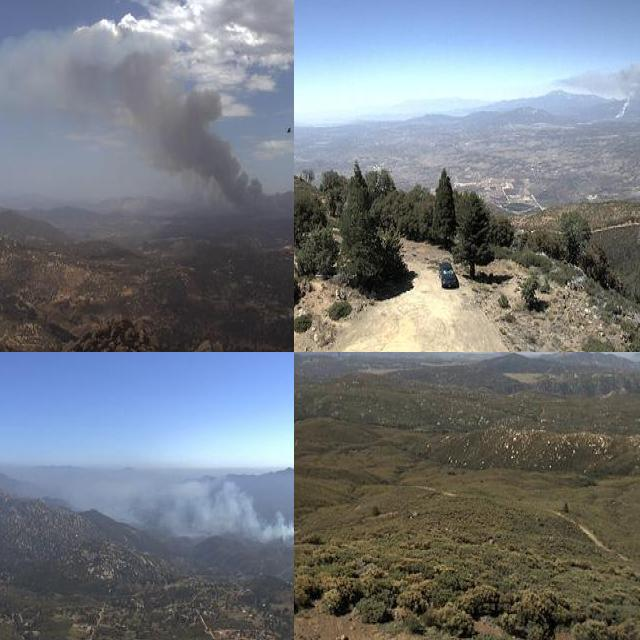smoke: (0, 29, 292, 245), (101, 467, 294, 543), (552, 57, 640, 127), (324, 352, 346, 363)
